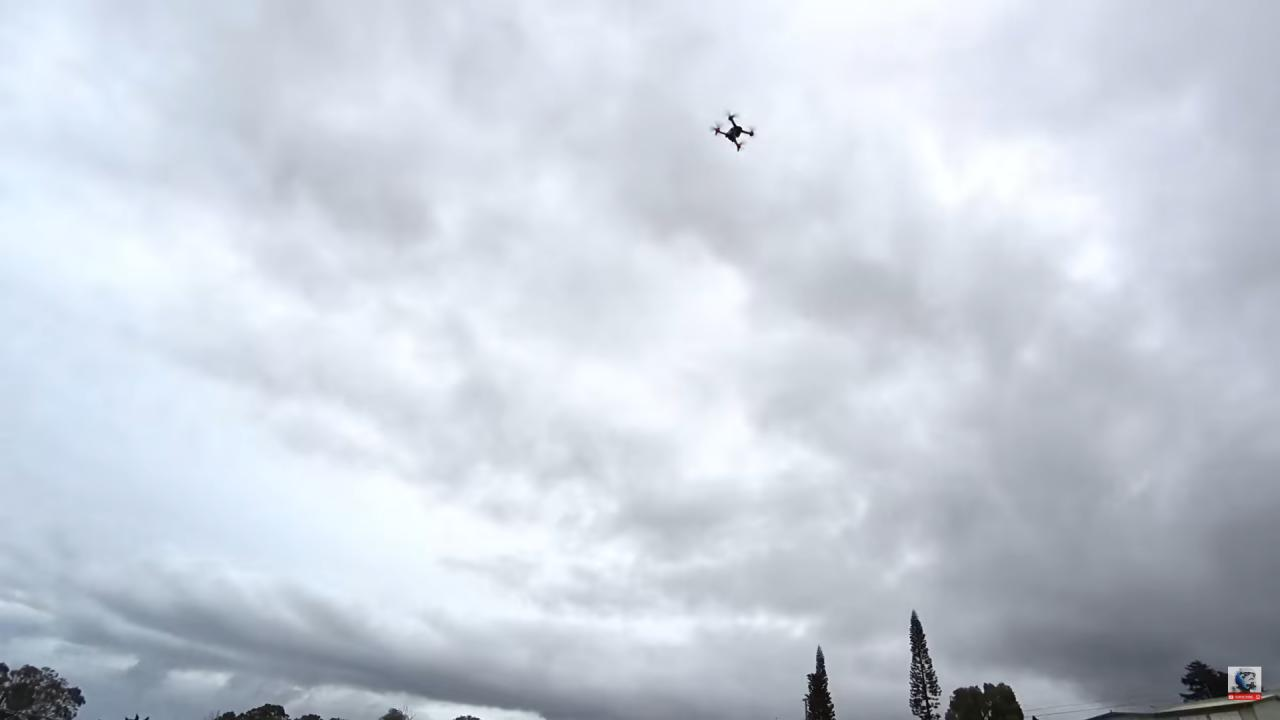Drone: (704, 103, 759, 161)
